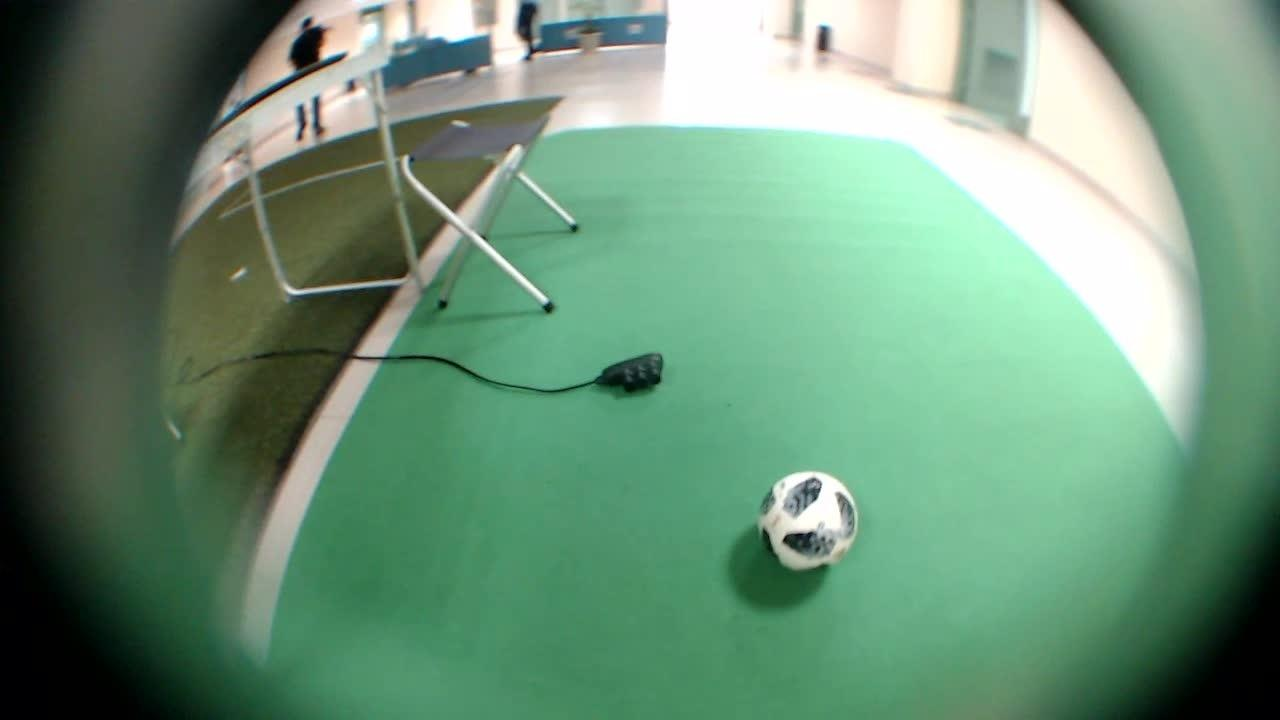ball: (745, 454, 877, 586)
